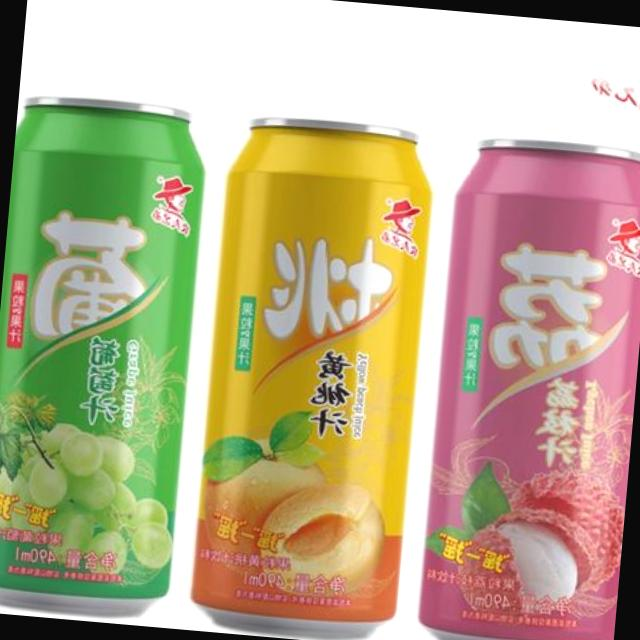can: (183, 104, 443, 640), (411, 126, 640, 640), (0, 85, 216, 625)
